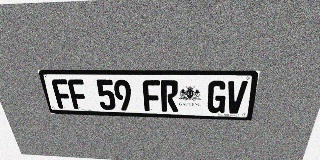5: (96, 79, 117, 110)
9: (113, 80, 133, 111)
F: (51, 79, 73, 109), (67, 79, 89, 109), (142, 80, 161, 111)
G: (206, 80, 228, 113)
R: (160, 80, 178, 112)
V: (225, 81, 248, 114)
